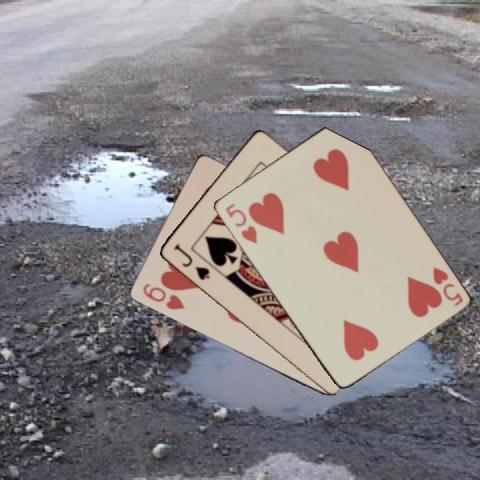5h: (222, 200, 259, 245), (429, 263, 464, 308)
6h: (139, 280, 186, 311)
Js: (170, 241, 211, 282)
